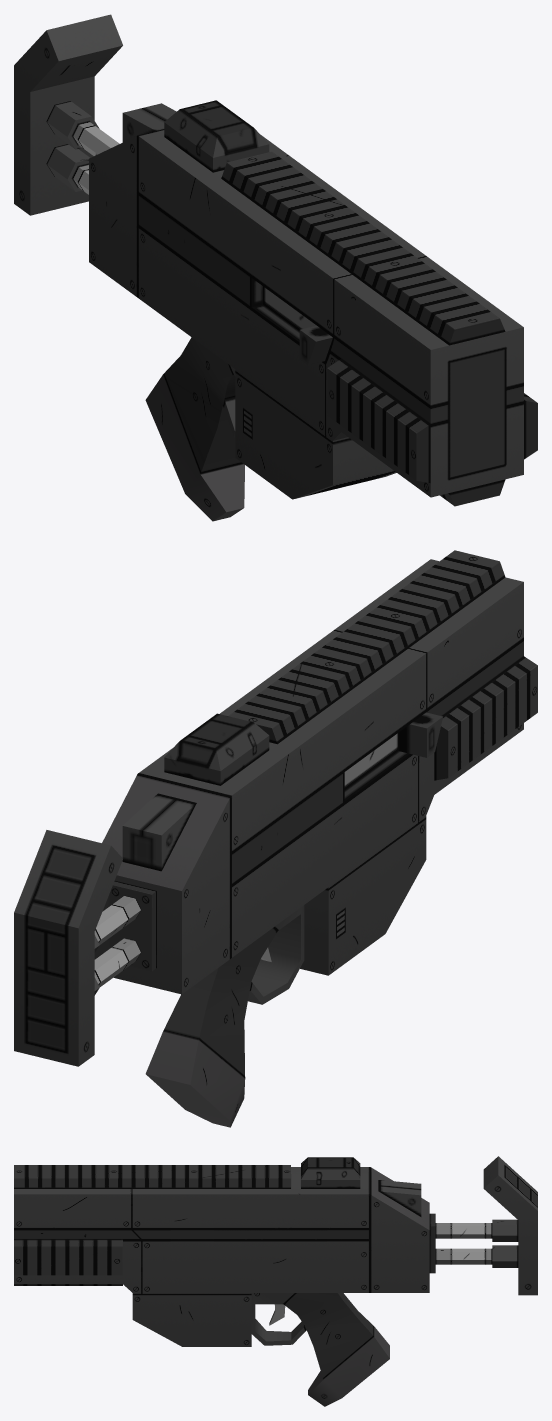
File: mod_wpn_ranged_medium_frame01.fbx
3 views of the same model, one above another, from view 1: azimuth 30°, elevation 25°; view 2: azimuth 150°, elevation 25°; view 3: azimuth 270°, elevation 25° (orthographic). The views are drawn at different scales.
Parts seen in each view (by area): view 1: mod_wpn_ranged_medium_frame01; view 2: mod_wpn_ranged_medium_frame01; view 3: mod_wpn_ranged_medium_frame01.
Part boxes in pixels (x1,y1,x2,y2): mod_wpn_ranged_medium_frame01: (14,14,537,521); mod_wpn_ranged_medium_frame01: (14,550,537,1127); mod_wpn_ranged_medium_frame01: (14,1156,537,1406).
Bounding box in the file's own units: 8.81 × 26.93 × 52.95.
